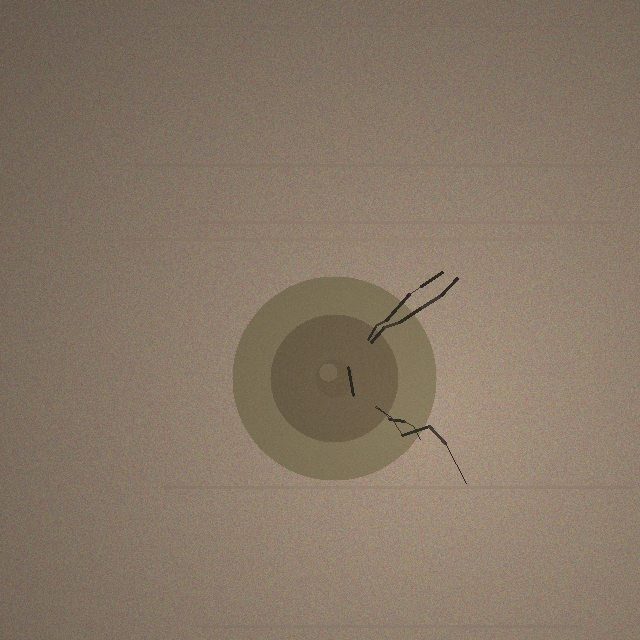crack: (232, 276, 436, 480)
